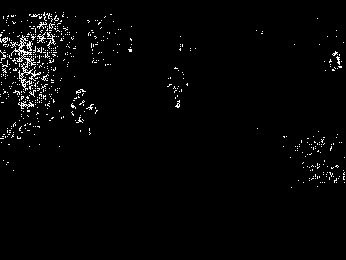person: (68, 88, 98, 141), (165, 66, 191, 110)
